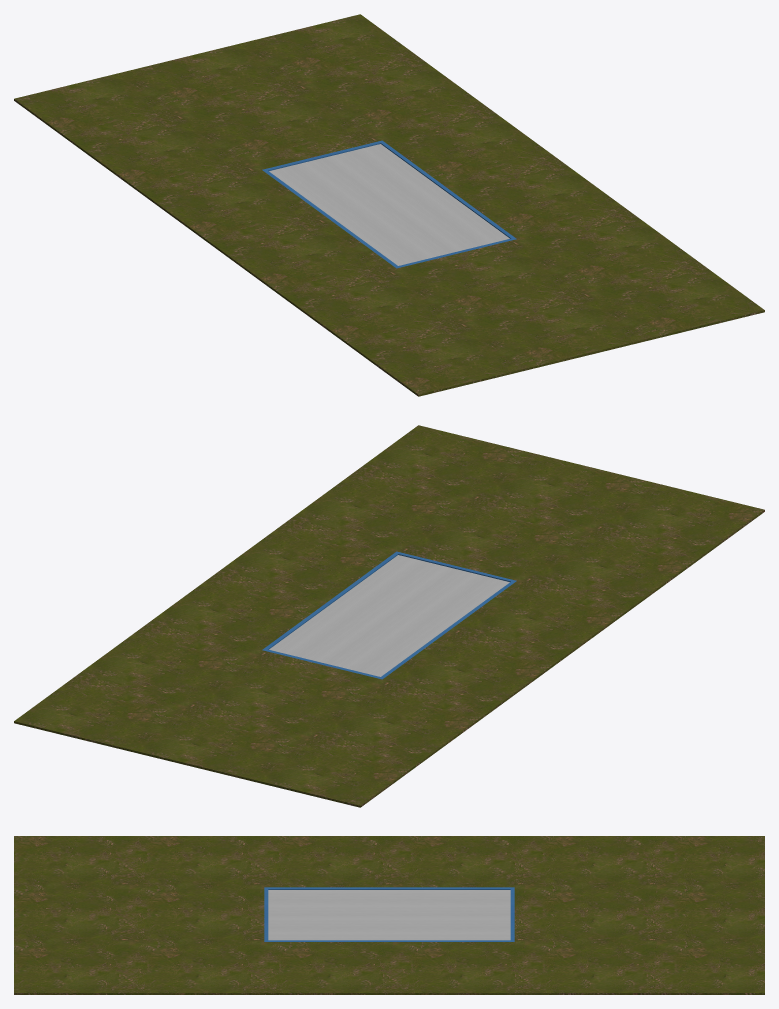
Rendered from squid_game_arena.glb.
3 renders of one model, top to bottom at view 1: azimuth 30°, elevation 25°; view 2: azimuth 150°, elevation 25°; view 3: azimuth 270°, elevation 25°, orthographic. The views are drawn at different scales.
Visible parts, largest first — view 1: FrontOutside_15, BackOutside_14, RightOutside_13, LeftOutside_12, RoofLeft_37, RoofRight_38, LeftWall_1; view 2: BackOutside_14, FrontOutside_15, RightOutside_13, LeftOutside_12, RoofLeft_37, RoofRight_38, LeftWall_1; view 3: BackOutside_14, FrontOutside_15, LeftOutside_12, RightOutside_13, RoofLeft_37, RoofRight_38, RightWall_2, LeftWall_1.
Part boxes in pixels (x1,y1,x2,y2): FrontOutside_15: (283,211,764,396); BackOutside_14: (14,14,494,198); RightOutside_13: (148,170,396,297); LeftOutside_12: (382,113,629,238); RoofLeft_37: (325,144,509,252); RoofRight_38: (269,157,453,265); LeftWall_1: (380,142,514,238); BackOutside_14: (14,622,495,807); FrontOutside_15: (284,425,764,609); RightOutside_13: (382,581,630,708); LeftOutside_12: (149,524,396,649); RoofLeft_37: (269,555,453,663); RoofRight_38: (325,568,509,676); LeftWall_1: (264,553,398,649); BackOutside_14: (514,836,764,994); FrontOutside_15: (14,836,264,994); LeftOutside_12: (264,942,514,994); RightOutside_13: (264,836,514,887); RoofLeft_37: (268,915,510,940); RoofRight_38: (268,890,510,915); RightWall_2: (268,887,510,889); LeftWall_1: (268,940,510,941).
Size of the model in its own units: 92 by 11 by 186.
21 materials, 14 textured.
